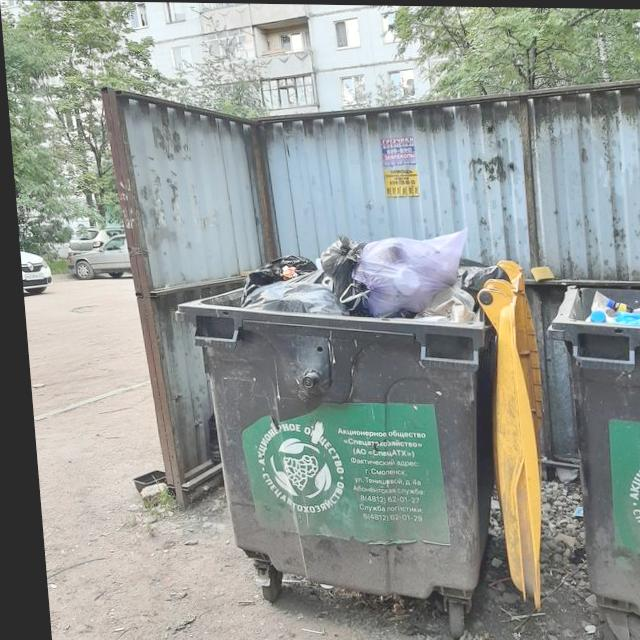Trash_Can_Full: (167, 229, 502, 599), (541, 282, 640, 634)
